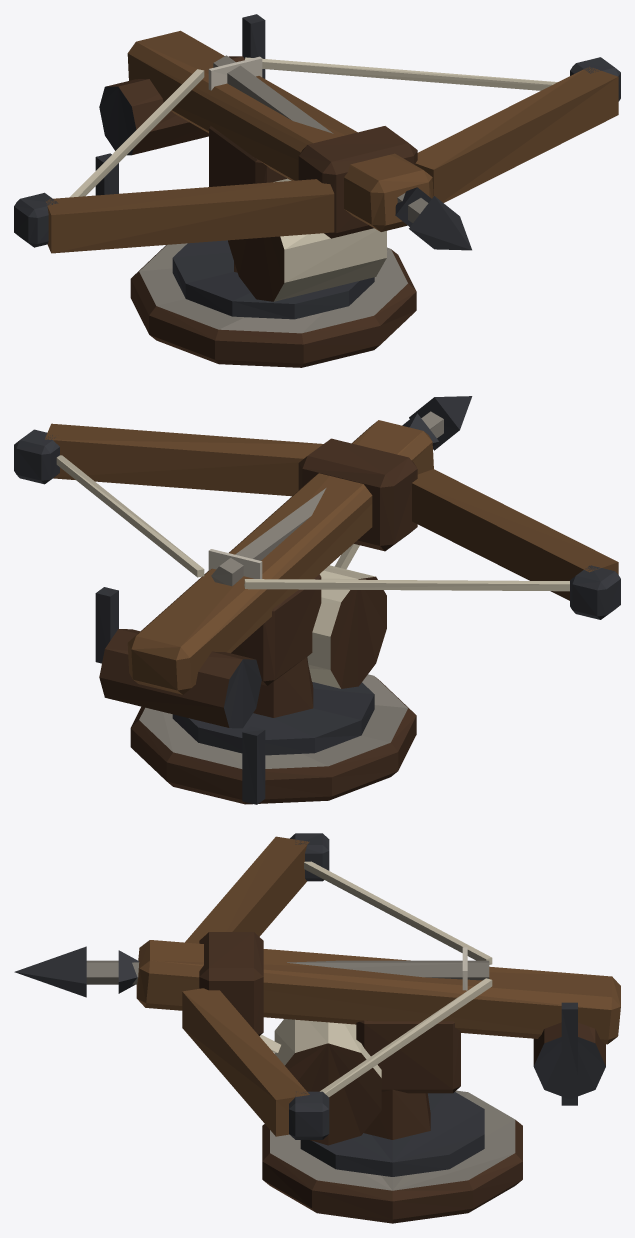
The model's file is pinning_ballista_head.glb.
3 renders of one model, top to bottom at view 1: azimuth 30°, elevation 25°; view 2: azimuth 150°, elevation 25°; view 3: azimuth 270°, elevation 25°, orthographic. The views are drawn at different scales.
Parts seen in each view (by area): view 1: pinning_ballista_head; view 2: pinning_ballista_head; view 3: pinning_ballista_head.
Part boxes in pixels (x1,y1,x2,y2): pinning_ballista_head: [14, 14, 620, 367]; pinning_ballista_head: [14, 396, 620, 804]; pinning_ballista_head: [14, 833, 620, 1223].
Size of the model in its own units: 0.809 by 0.305 by 0.7535.
